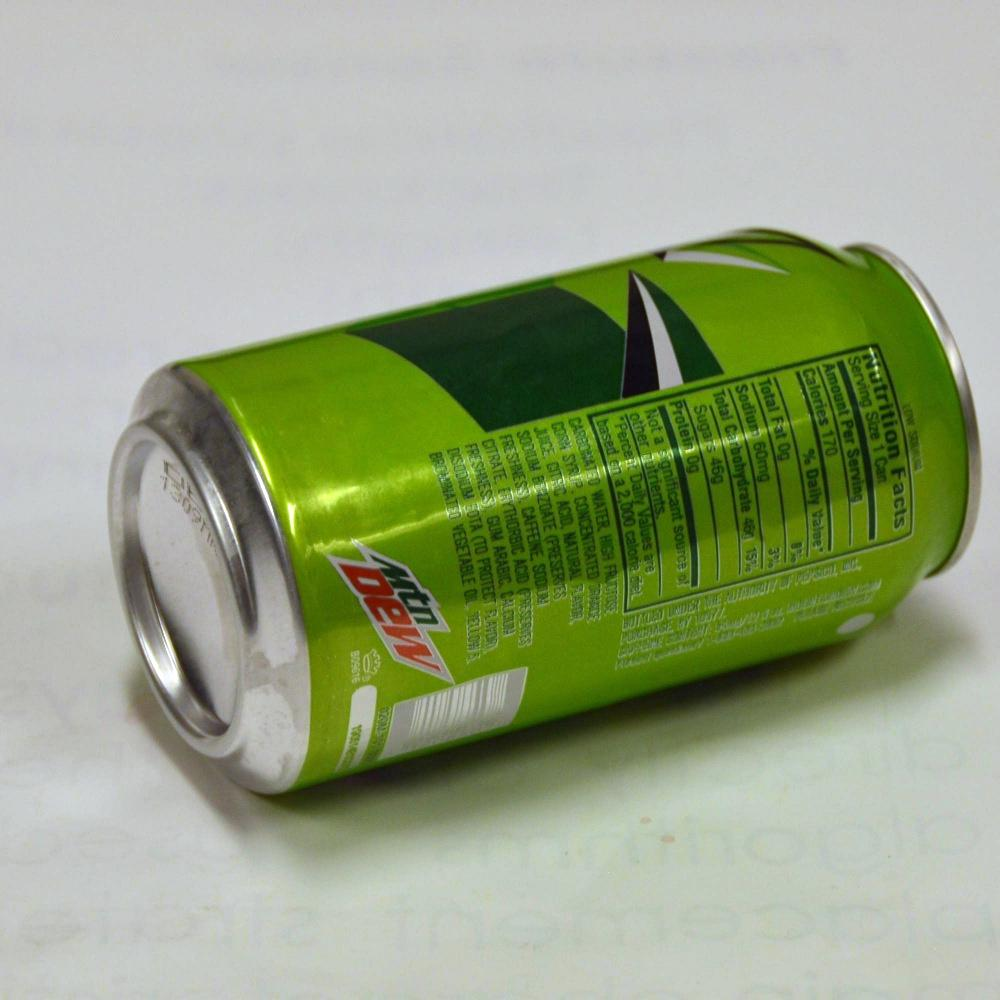Metal: (38, 210, 960, 850)
